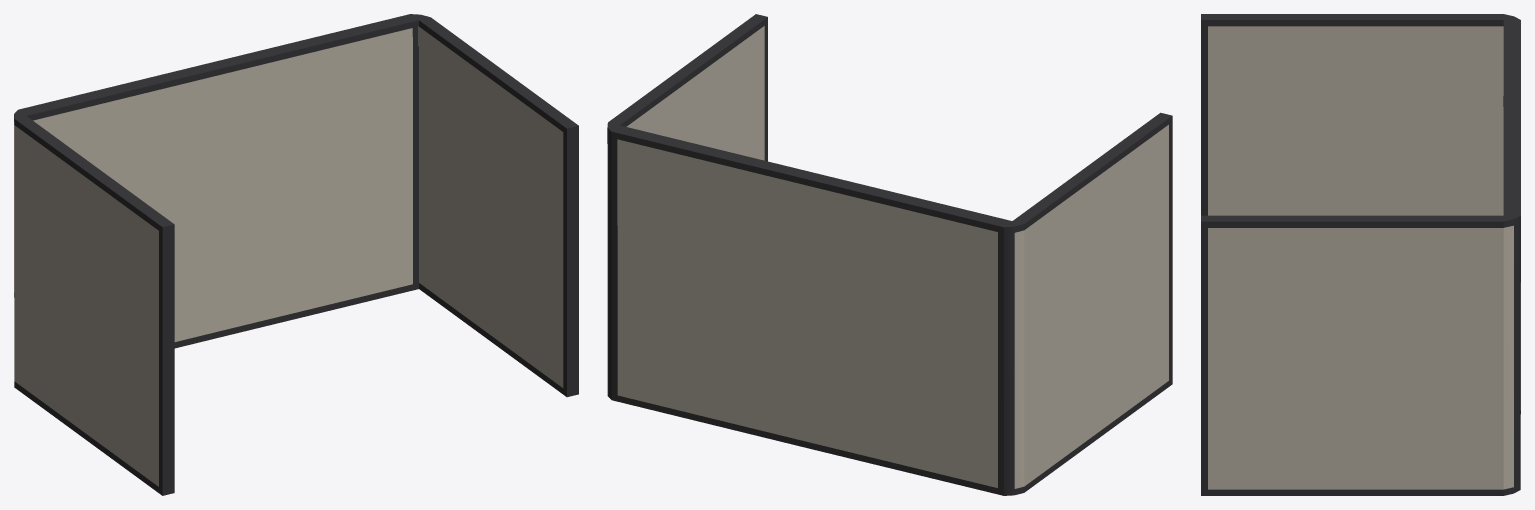
Rendered from 08_divider_full_U_smallfragments.glb.
3 renders of one model, left to right at view 1: azimuth 30°, elevation 25°; view 2: azimuth 150°, elevation 25°; view 3: azimuth 270°, elevation 25°, orthographic. The views are drawn at different scales.
Visible parts, largest first — view 1: Panel_Back_fragment_2, Panel_Back_fragment_3, Panel_Right_fragment_2, Panel_Left_fragment_2, Panel_Left_fragment_3, Panel_Right_fragment_3, Panel_Left_fragment_1, Panel_Right_fragment_1, Panel_Back_fragment_1; view 2: Panel_Back_fragment_2, Panel_Back_fragment_3, Panel_Back_fragment_1, Panel_Left_fragment_2, Panel_Left_fragment_1, Panel_Left_fragment_3, Panel_Right_fragment_3, Panel_Right_fragment_2, Panel_Right_fragment_1; view 3: Panel_Right_fragment_2, Panel_Left_fragment_2, Panel_Right_fragment_3, Panel_Right_fragment_1, Panel_Left_fragment_3, Panel_Left_fragment_1, Panel_Back_fragment_2, Panel_Back_fragment_3, Panel_Back_fragment_1.
Boxes of the visible parts, x1=… form: Panel_Back_fragment_2: x1=108, y1=47, x2=315, y2=348; Panel_Back_fragment_3: x1=274, y1=14, x2=418, y2=313; Panel_Right_fragment_2: x1=442, y1=34, x2=529, y2=369; Panel_Left_fragment_2: x1=38, y1=133, x2=125, y2=468; Panel_Left_fragment_3: x1=106, y1=183, x2=174, y2=495; Panel_Right_fragment_3: x1=510, y1=84, x2=578, y2=397; Panel_Left_fragment_1: x1=14, y1=110, x2=56, y2=418; Panel_Right_fragment_1: x1=411, y1=14, x2=461, y2=319; Panel_Back_fragment_1: x1=18, y1=88, x2=128, y2=190; Panel_Back_fragment_2: x1=714, y1=158, x2=921, y2=465; Panel_Back_fragment_3: x1=611, y1=125, x2=755, y2=425; Panel_Back_fragment_1: x1=880, y1=199, x2=1011, y2=495; Panel_Left_fragment_2: x1=1036, y1=154, x2=1135, y2=461; Panel_Left_fragment_1: x1=1004, y1=204, x2=1066, y2=495; Panel_Left_fragment_3: x1=1104, y1=112, x2=1172, y2=410; Panel_Right_fragment_3: x1=700, y1=14, x2=767, y2=161; Panel_Right_fragment_2: x1=632, y1=55, x2=718, y2=149; Panel_Right_fragment_1: x1=607, y1=105, x2=644, y2=399; Panel_Right_fragment_2: x1=1276, y1=215, x2=1455, y2=495; Panel_Left_fragment_2: x1=1288, y1=14, x2=1455, y2=215; Panel_Right_fragment_3: x1=1201, y1=215, x2=1315, y2=495; Panel_Right_fragment_1: x1=1416, y1=215, x2=1520, y2=495; Panel_Left_fragment_3: x1=1201, y1=14, x2=1315, y2=215; Panel_Left_fragment_1: x1=1427, y1=14, x2=1520, y2=215; Panel_Back_fragment_2: x1=1503, y1=65, x2=1520, y2=413; Panel_Back_fragment_3: x1=1503, y1=147, x2=1520, y2=376; Panel_Back_fragment_1: x1=1503, y1=20, x2=1520, y2=215.
Bounding box in the file's own units: 2.43 × 1.5 × 1.59.
